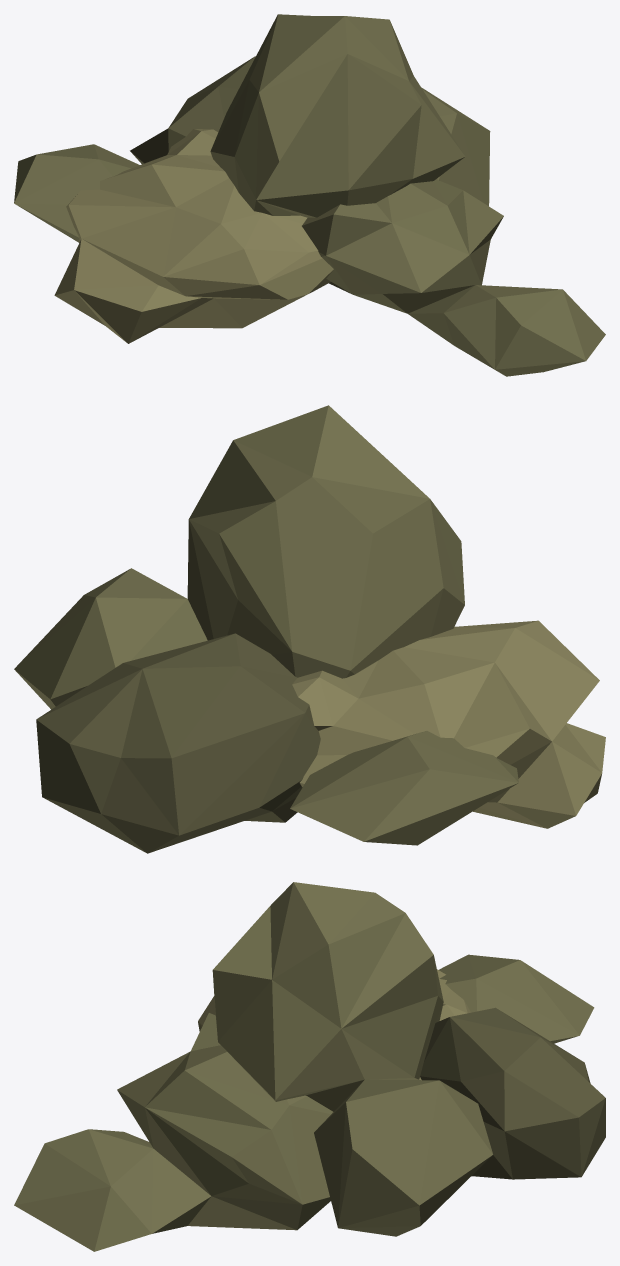
Rendered from SM_Env_Bush_Large_02.glb.
3 views of the same model, one above another, from view 1: azimuth 30°, elevation 25°; view 2: azimuth 150°, elevation 25°; view 3: azimuth 270°, elevation 25° (orthographic). The views are drawn at different scales.
Visible parts, largest first — view 1: SM_Env_Bush_Large_02; view 2: SM_Env_Bush_Large_02; view 3: SM_Env_Bush_Large_02.
Part boxes in pixels (<box>): SM_Env_Bush_Large_02: <box>14,14,605,376</box>; SM_Env_Bush_Large_02: <box>14,405,605,853</box>; SM_Env_Bush_Large_02: <box>14,882,605,1251</box>.
Size of the model in its own units: 5.89 by 3.89 by 6.65.
Materials: 1 (1 with a texture image).
